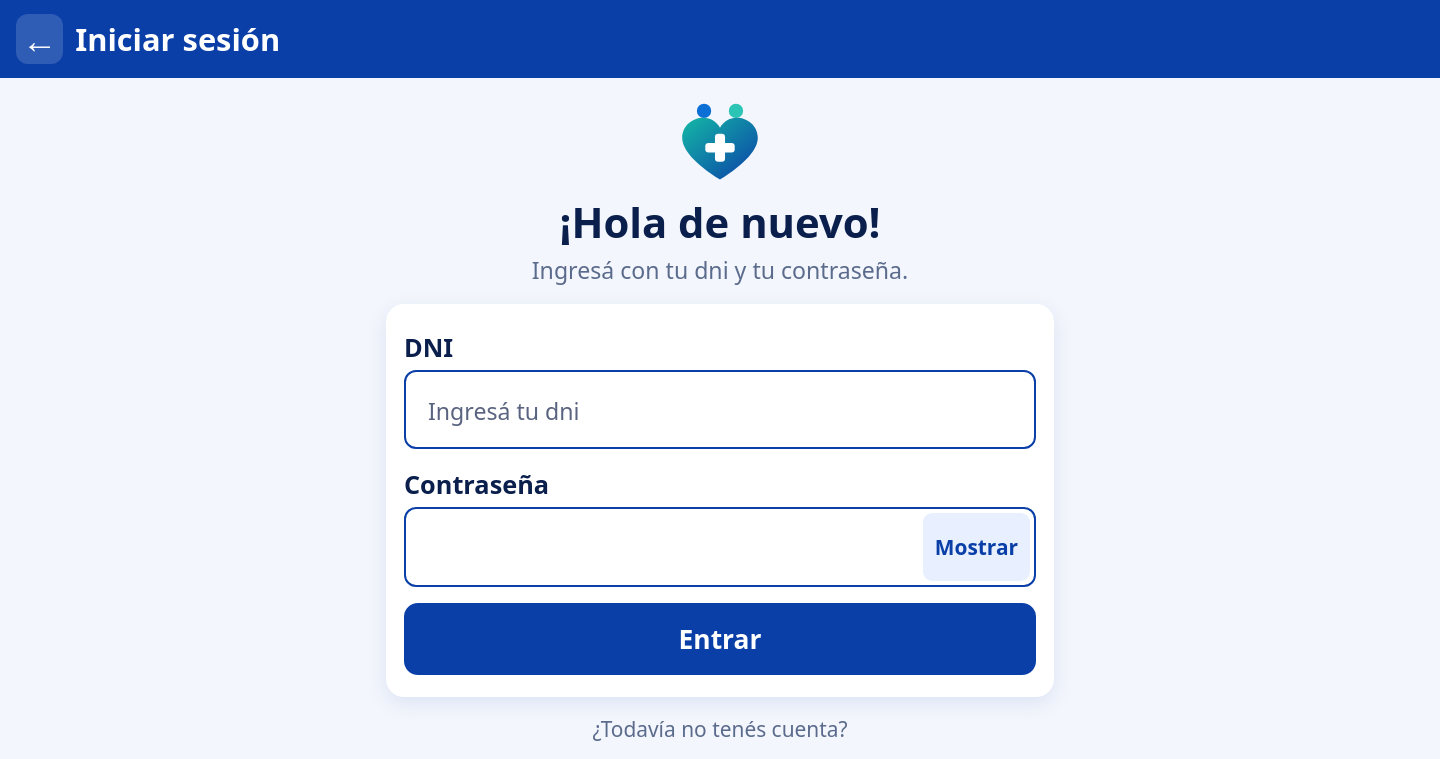
Test: Inicio de sesión › muestra el error del servidor y no guarda nada si las credenciales son incorrectas
The image size is (1440, 759).
Type "12345678" into the field labelled "DNI". click: (720, 410)
box: left=404, top=370, right=1036, bottom=449
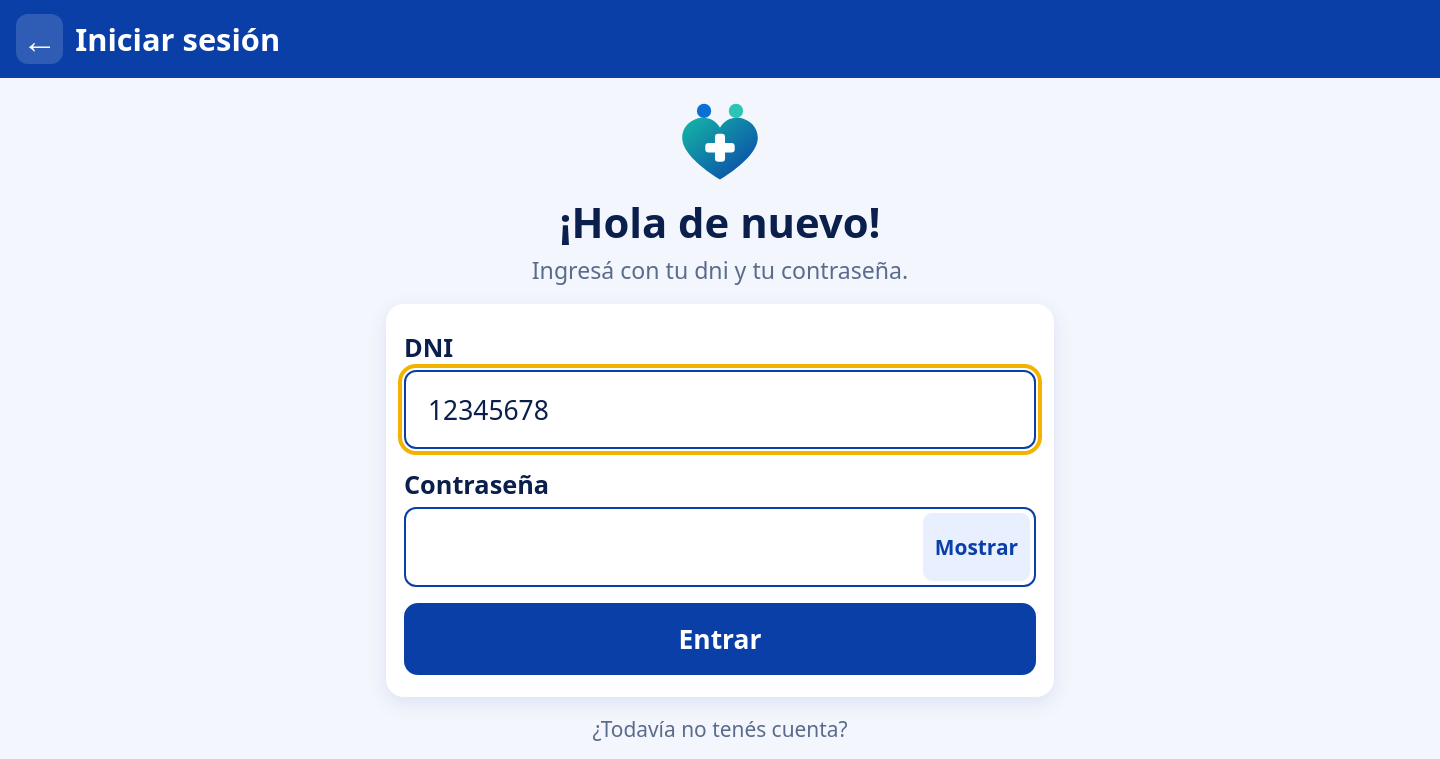
Type "incorrecta1" into the password field labelled "Contraseña". click: (720, 547)
box: left=404, top=507, right=1036, bottom=587
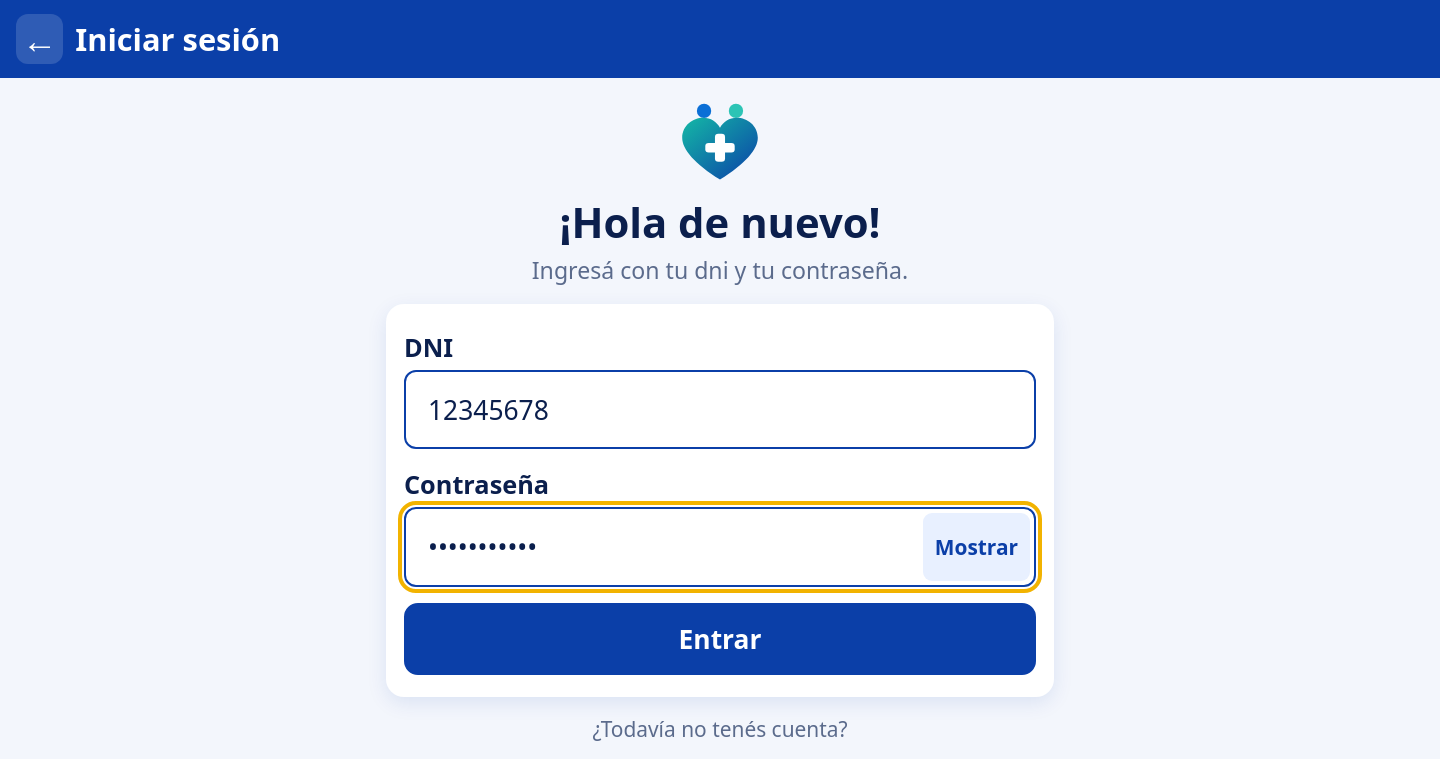
Click the button "Entrar". click: (720, 639)
box: left=404, top=603, right=1036, bottom=675
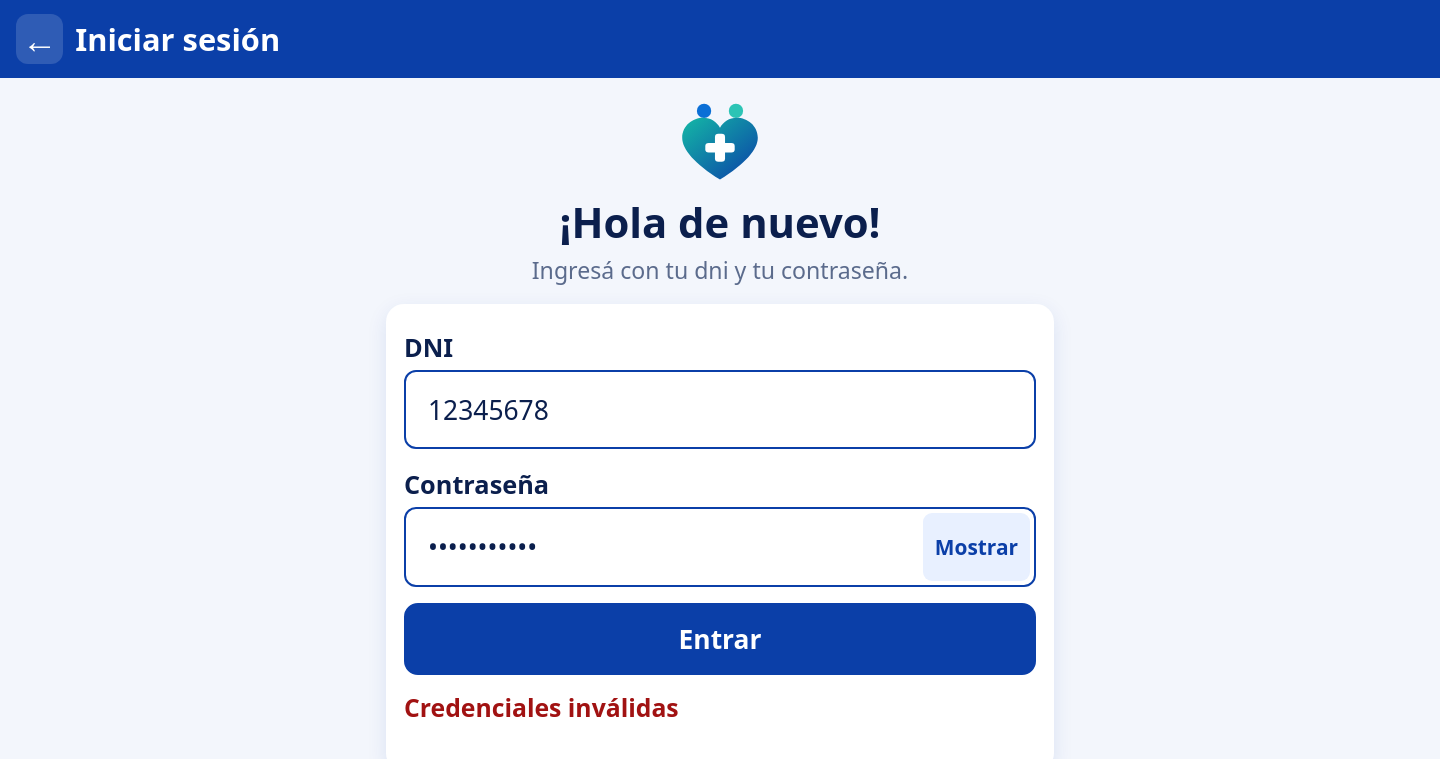
Result: the message reads "Credenciales inválidas" at left=404, top=691, right=679, bottom=724
